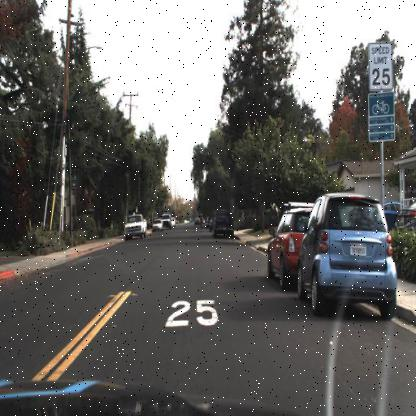car: (297, 188, 398, 316), (264, 206, 312, 290), (211, 203, 235, 238), (122, 215, 148, 238)
